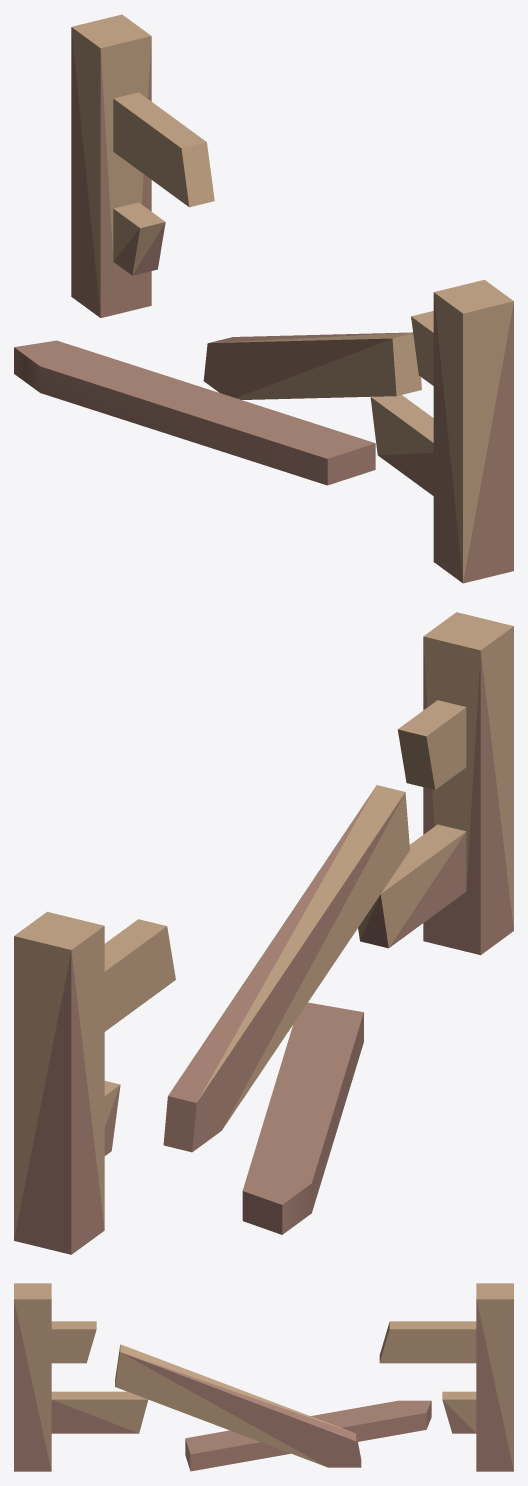
The picture shows the model from 3 angles, top to bottom: view 1: azimuth 30°, elevation 25°; view 2: azimuth 150°, elevation 25°; view 3: azimuth 270°, elevation 25°; orthographic projection. The views are drawn at different scales.
Parts seen in each view (by area): view 1: model; view 2: model; view 3: model.
Part boxes in pixels (left/top/right/bottom): model: left=14, top=14, right=513, bottom=583; model: left=14, top=612, right=513, bottom=1254; model: left=14, top=1283, right=513, bottom=1471.
Bounding box in the file's own units: 0.5095 × 0.76 × 2.
